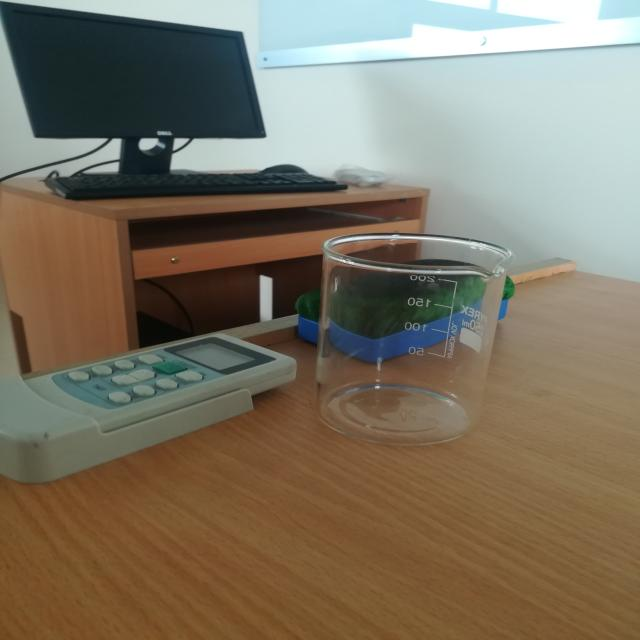Beaker: (256, 204, 554, 482)
